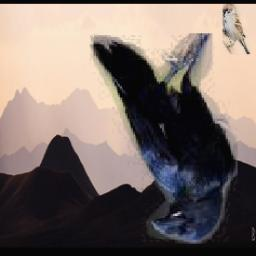Crow: (89, 34, 237, 245)
Sparrow: (223, 4, 251, 54)
